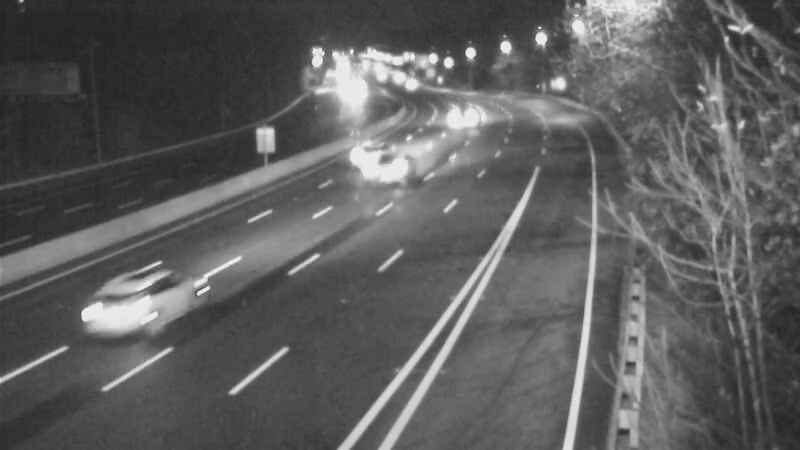vehicle: (65, 263, 175, 373), (329, 111, 409, 191), (357, 126, 437, 206), (374, 54, 424, 104), (389, 61, 439, 111), (448, 90, 498, 140)
